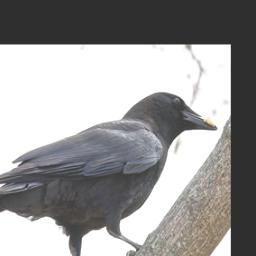Crow: (1, 91, 219, 256)
